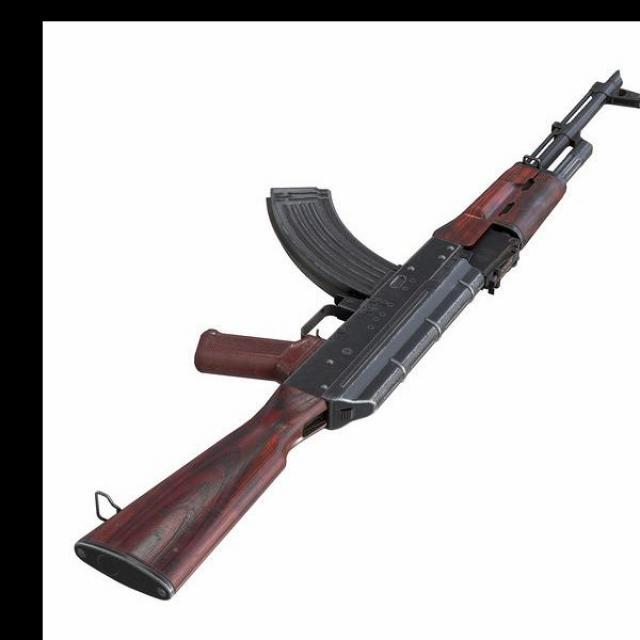weapon: (72, 67, 640, 599)
